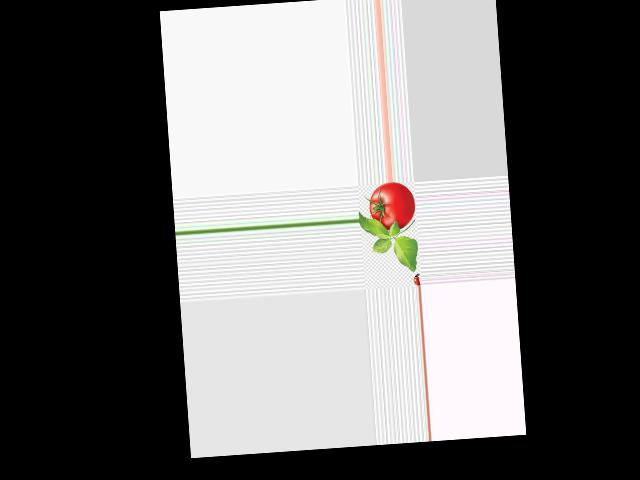tomato: (368, 180, 416, 231)
